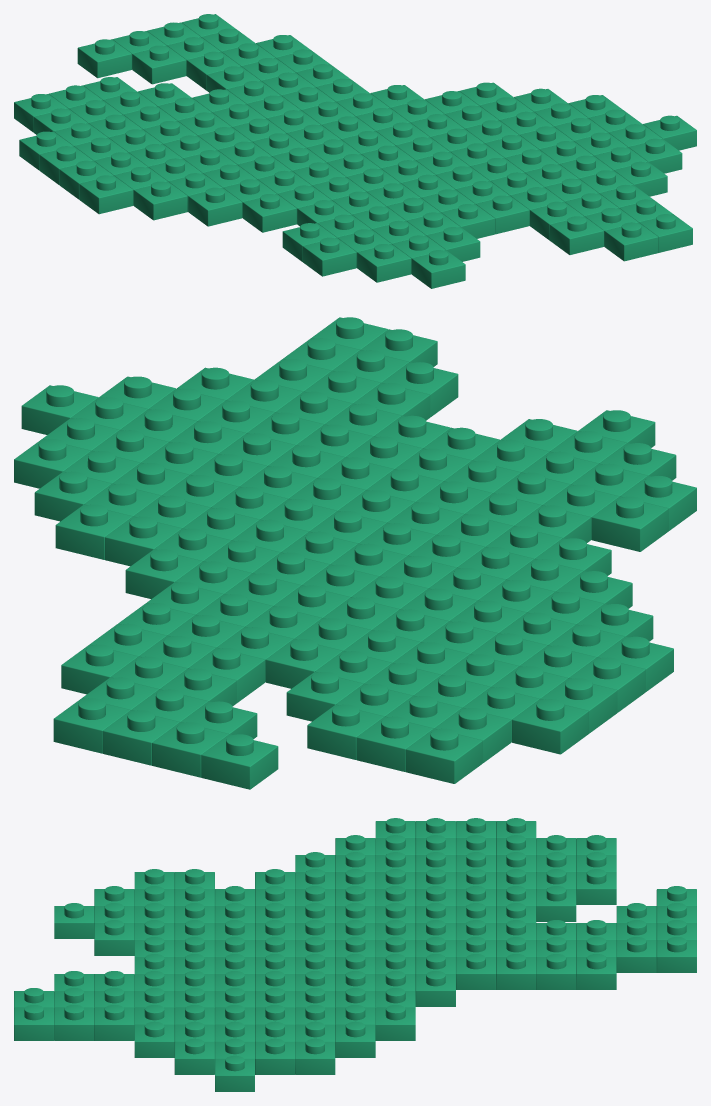
Rendered from Siam.fbx.
3 renders of one model, top to bottom at view 1: azimuth 30°, elevation 25°; view 2: azimuth 150°, elevation 25°; view 3: azimuth 270°, elevation 25°, orthographic. The views are drawn at different scales.
Parts seen in each view (by area): view 1: Cylinder_62; view 2: Cylinder_62; view 3: Cylinder_62.
Part boxes in pixels (<box>): Cylinder_62: <box>14,14,696,288</box>; Cylinder_62: <box>14,317,696,789</box>; Cylinder_62: <box>14,818,696,1091</box>.
Size of the model in its own units: 1500 by 65.03 by 1700.
